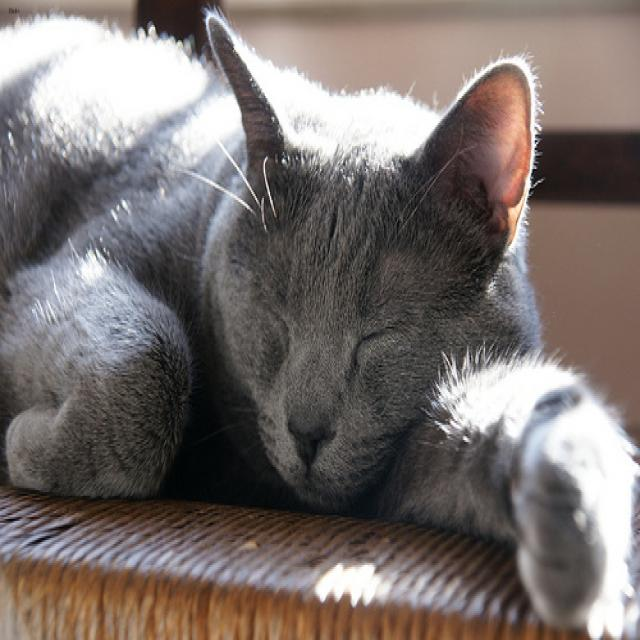cat: (204, 10, 531, 508)
